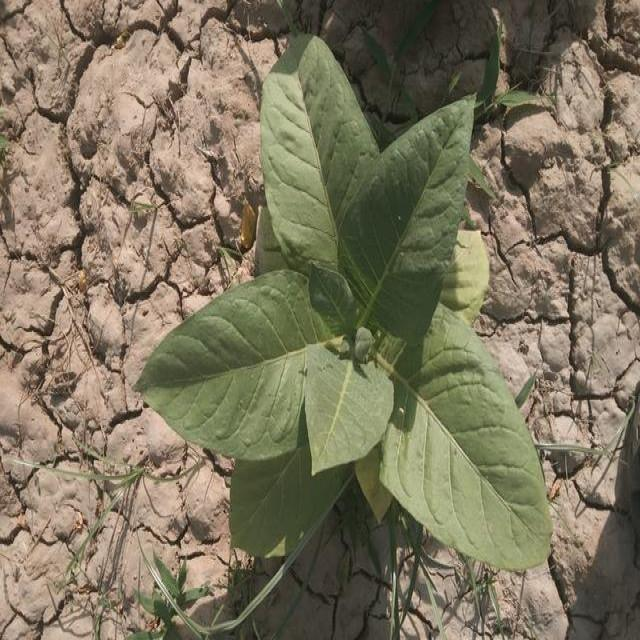crop: (138, 34, 551, 571)
